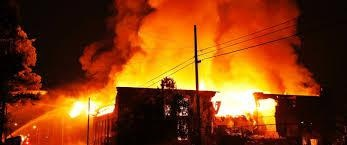fire: (203, 63, 277, 121), (66, 94, 113, 116)
